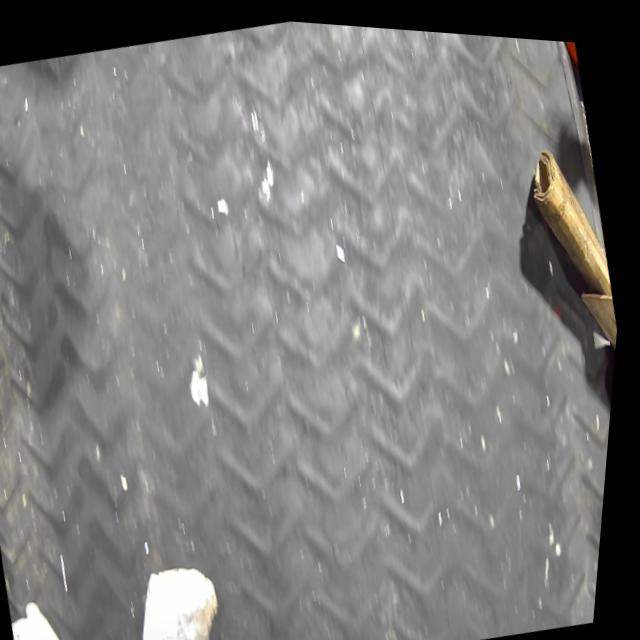milk_jug: (14, 586, 104, 640)
